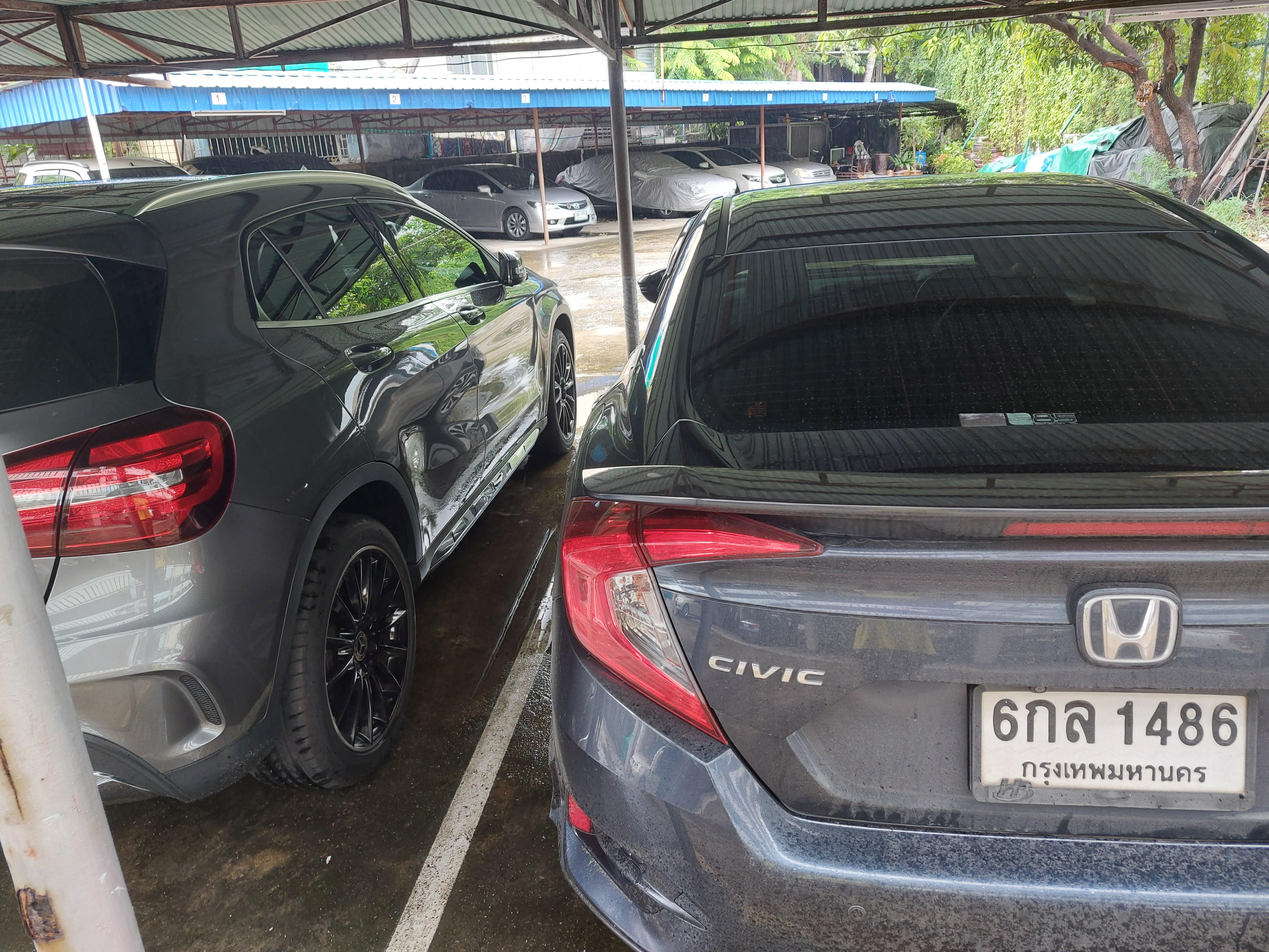license-plate: (969, 682, 1259, 813)
